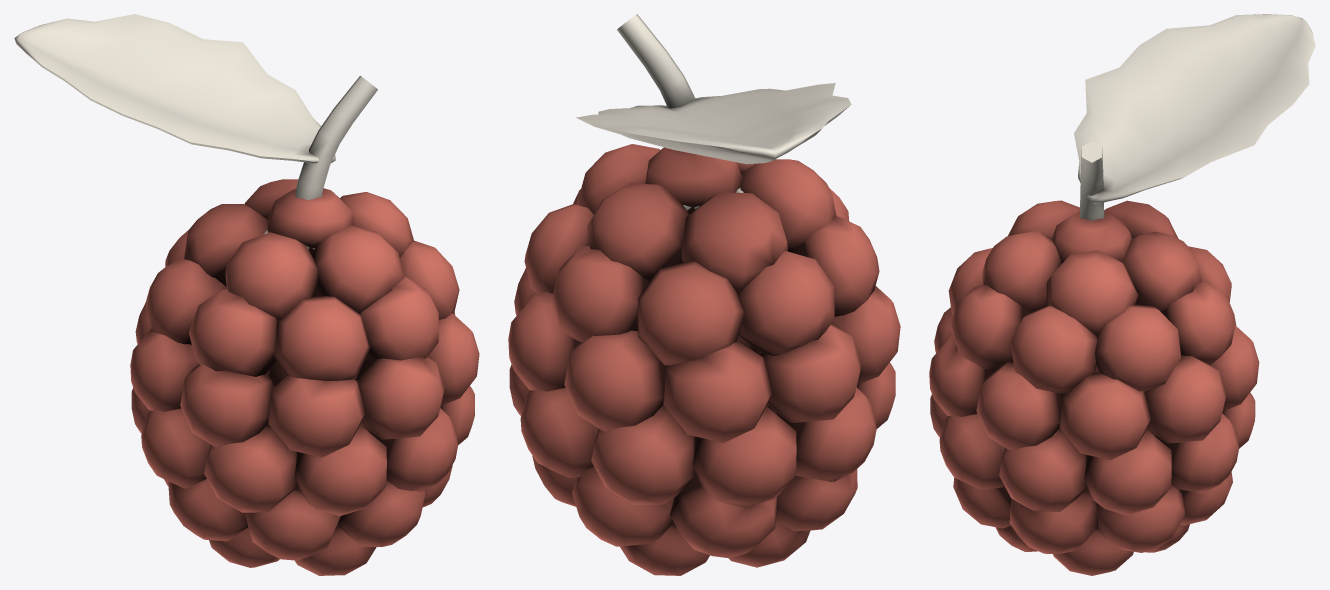
The model's file is food_berry.glb.
3 views of the same model, side by side, from view 1: azimuth 30°, elevation 25°; view 2: azimuth 150°, elevation 25°; view 3: azimuth 270°, elevation 25° (orthographic). The views are drawn at different scales.
Visible parts, largest first — view 1: PART; view 2: PART; view 3: PART.
Part boxes in pixels (box(x1,y1,x2,y2)): PART: box(14, 14, 479, 575); PART: box(508, 14, 900, 575); PART: box(929, 14, 1315, 575).
Size of the model in its own units: 0.0405 by 0.0549 by 0.0426.
